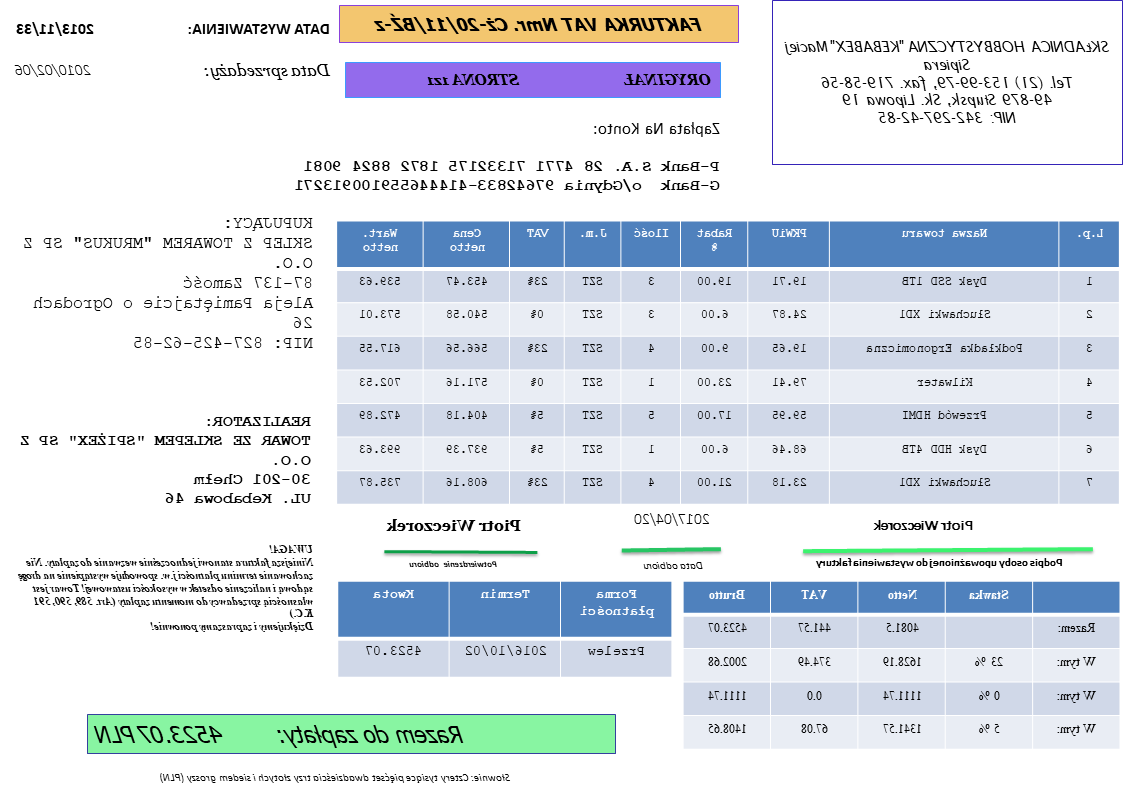Table: (335, 218, 1122, 506), (682, 579, 1122, 751), (336, 578, 674, 678)
TextBox: (18, 212, 317, 355), (780, 35, 1113, 129), (12, 539, 318, 637), (16, 412, 314, 509), (290, 156, 723, 197), (91, 720, 468, 747), (368, 10, 705, 38), (425, 67, 714, 89), (157, 769, 515, 785), (814, 554, 1066, 572), (199, 57, 333, 83), (589, 118, 723, 139), (186, 19, 332, 38), (385, 516, 524, 534), (868, 516, 979, 534), (633, 509, 713, 530), (11, 20, 98, 39), (11, 61, 96, 79), (408, 557, 500, 571), (642, 557, 707, 573)
